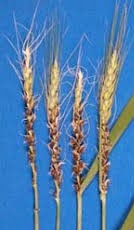Wheat Loose Smut: (19, 92, 123, 193)
